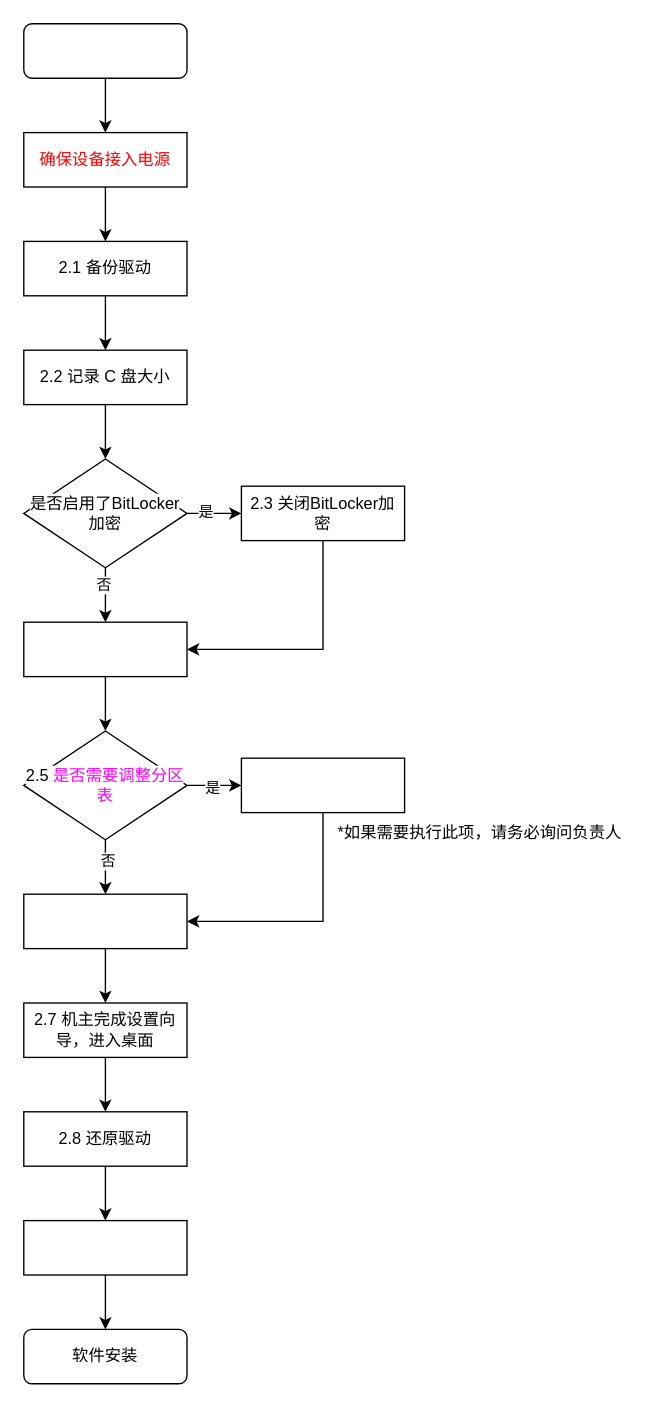
The diagram is 660 pixels wide and 1408 high, and some of its shapes have lost their labels. The centre of each missing label's shape, as x and y in pixels:
2. 开始重装: the point at 104,50
2.4 启动到 PE 环境: the point at 104,649
2.6 执行 Windows 安装: the point at 104,921
2.9 激活系统: the point at 104,1247
使用 Disk Genius 调整分区表*: the point at 322,785
